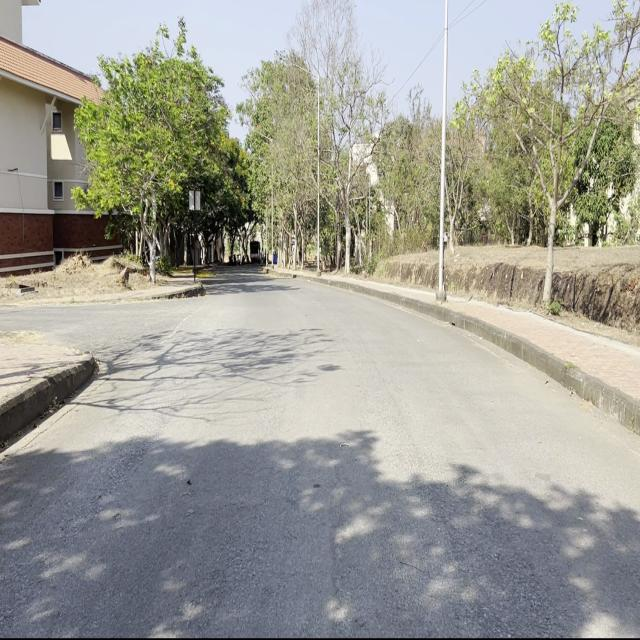Road: (1, 270, 638, 633)
